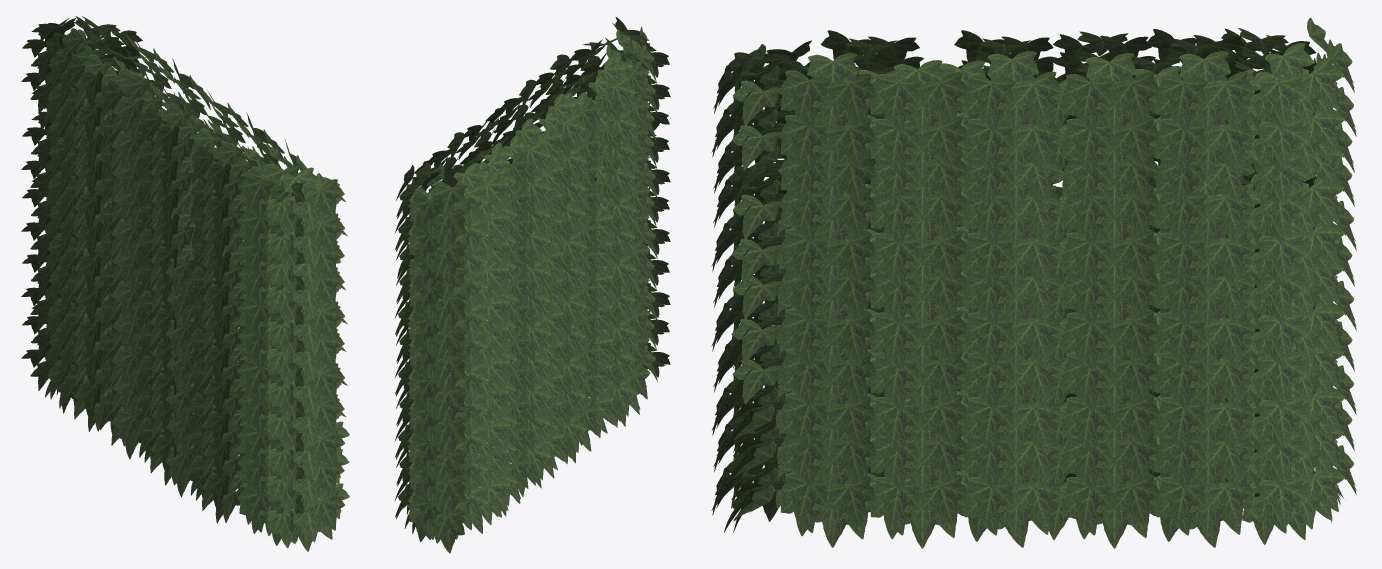
Rendered from leaves_v4.FBX.
3 renders of one model, left to right at view 1: azimuth 30°, elevation 25°; view 2: azimuth 150°, elevation 25°; view 3: azimuth 270°, elevation 25°, orthographic. The views are drawn at different scales.
Visible parts, largest first — view 1: Plane4850; view 2: Plane4850; view 3: Plane4850.
Part boxes in pixels (x1,y1,x2,y2): Plane4850: (21, 16, 349, 551); Plane4850: (394, 17, 670, 553); Plane4850: (711, 17, 1356, 548).
Size of the model in its own units: 811 by 2420 by 2971.
